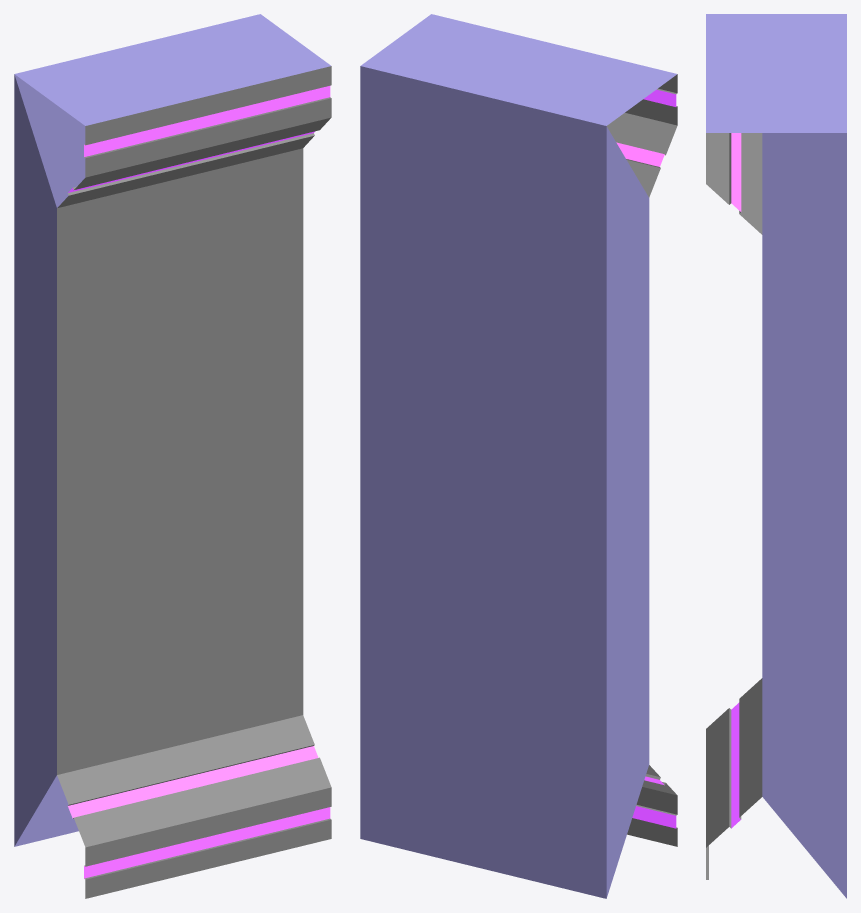
Rendered from WallSide.FBX.
The picture shows the model from 3 angles, left to right: view 1: azimuth 30°, elevation 25°; view 2: azimuth 150°, elevation 25°; view 3: azimuth 270°, elevation 25°; orthographic projection.
Parts seen in each view (by area): view 1: WallSide; view 2: WallSide; view 3: WallSide.
Boxes of the visible parts, left/top/right/bottom form: WallSide: left=14, top=14, right=331, bottom=898; WallSide: left=360, top=14, right=677, bottom=898; WallSide: left=706, top=14, right=846, bottom=898.
Bounding box in the file's own units: 100 × 50 × 300.
